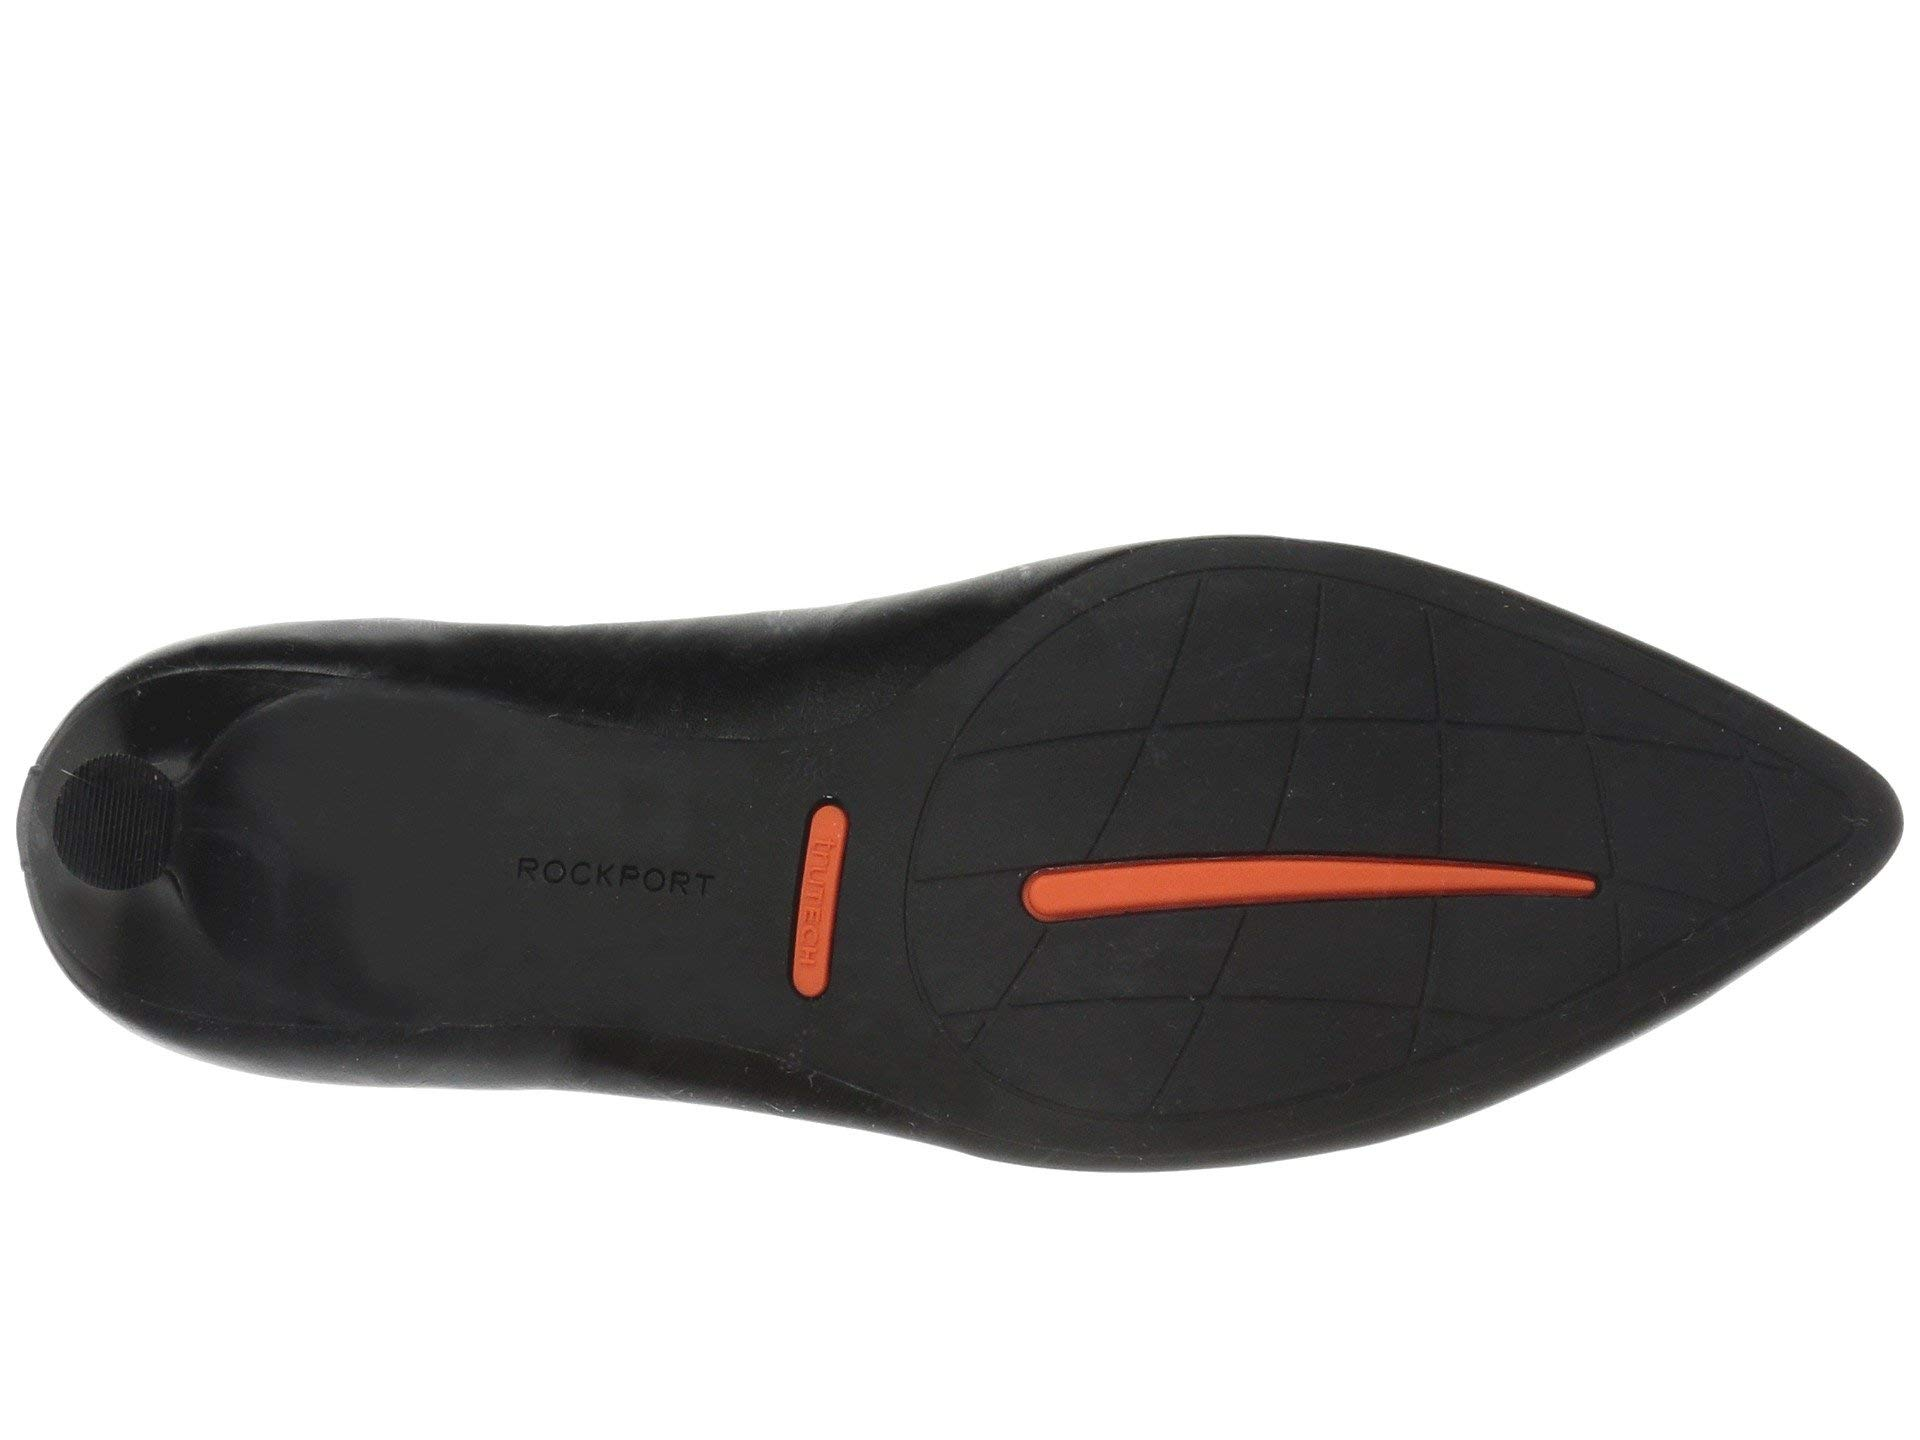circle: (441, 796, 745, 933), (42, 750, 187, 880)
line: (42, 750, 187, 880)
quad: (1141, 576, 1522, 844)
text: (441, 796, 745, 933), (770, 791, 872, 1023)
